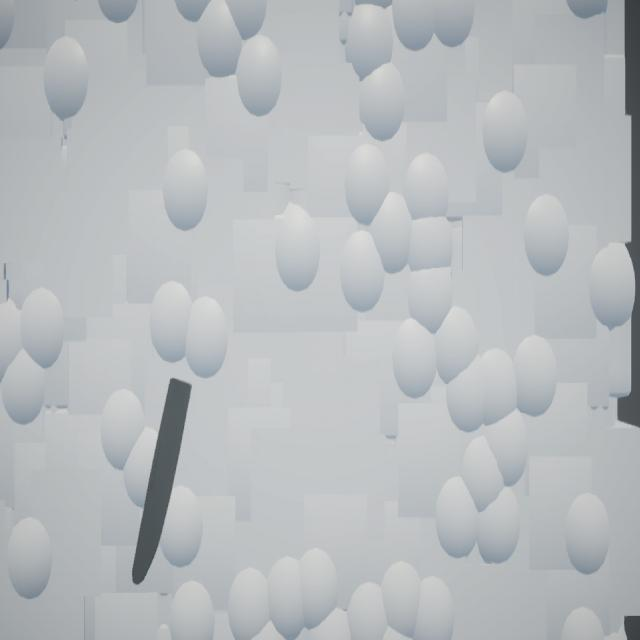top_knife: (133, 378, 193, 587)
